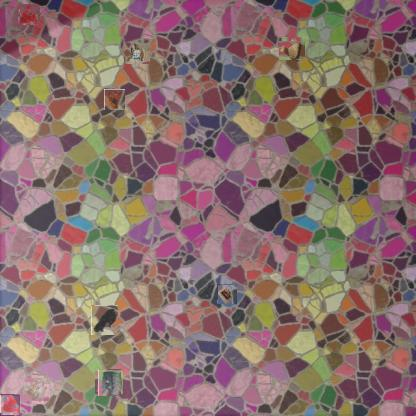dirty: (91, 305, 118, 335), (97, 370, 122, 395), (124, 44, 150, 66), (24, 380, 48, 403), (280, 39, 304, 62), (104, 89, 125, 110), (217, 284, 237, 304)
liquid: (19, 4, 39, 24), (0, 395, 20, 414)
